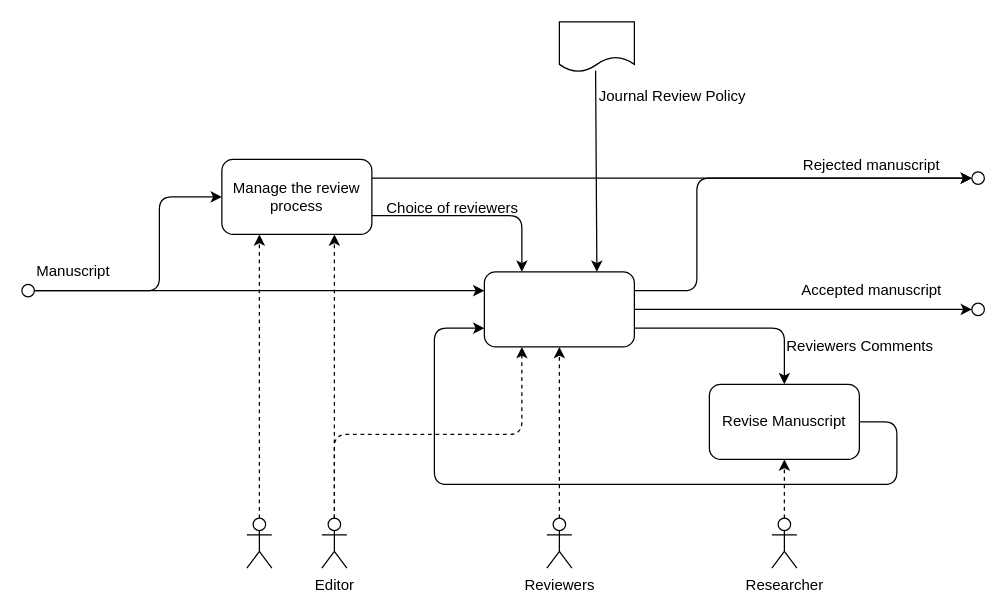
The diagram is 1006 pixels wide and 616 high, and some of its shapes have lost their labels. The centre of each missing label's shape, as x and y in pixels:
"Publisher" belongs at (259,542).
"Review Manuscript" belongs at (558,309).
